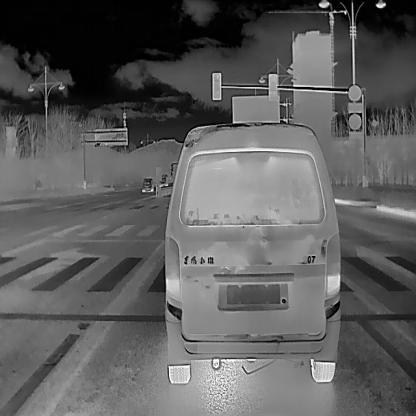car: (165, 119, 342, 384), (141, 177, 153, 192), (160, 173, 167, 186)
